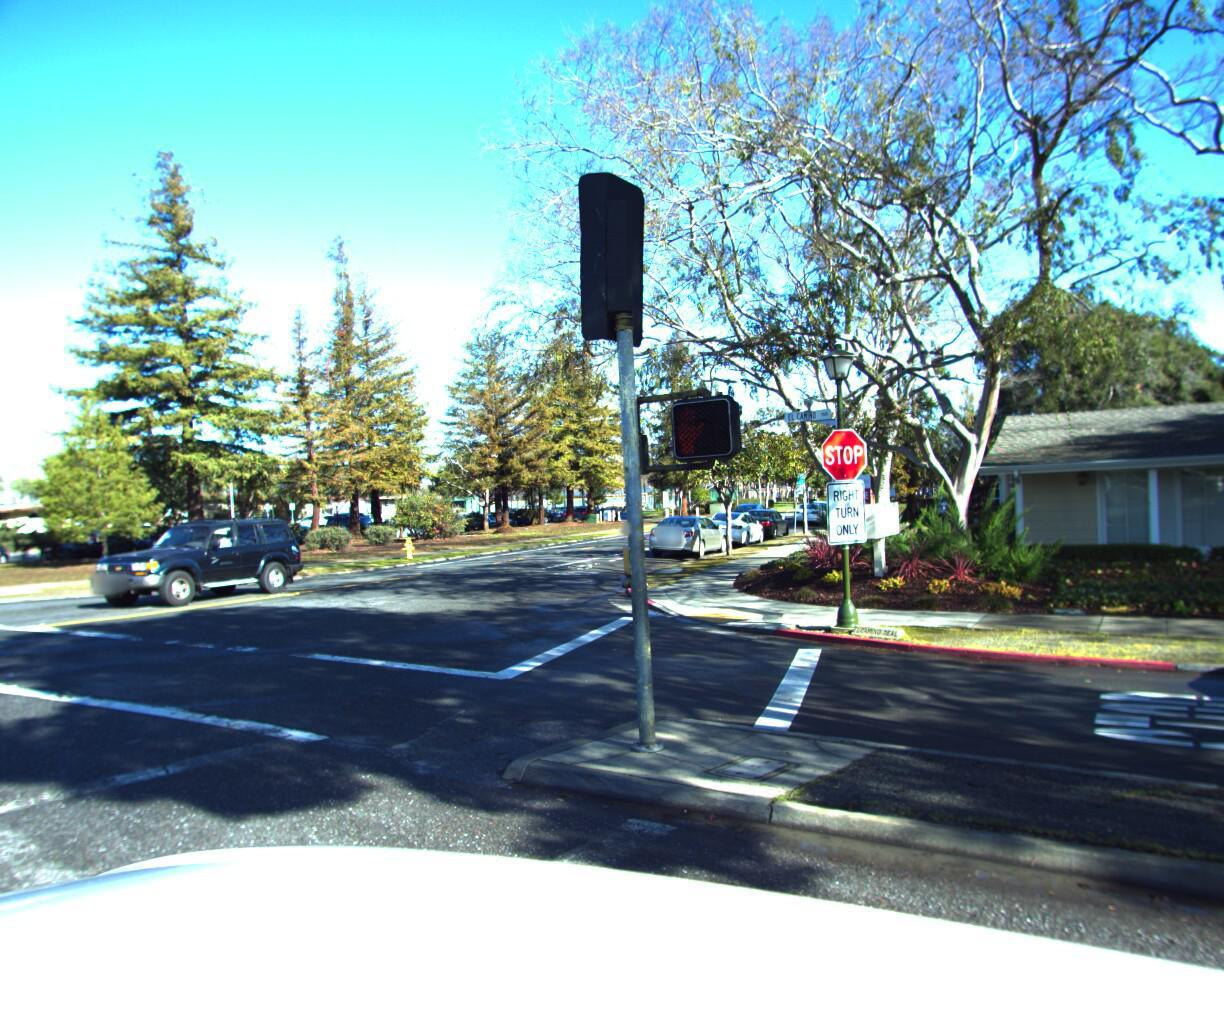car: (72, 507, 314, 612), (641, 504, 729, 556), (696, 501, 767, 544), (731, 498, 793, 536), (788, 494, 832, 520)
